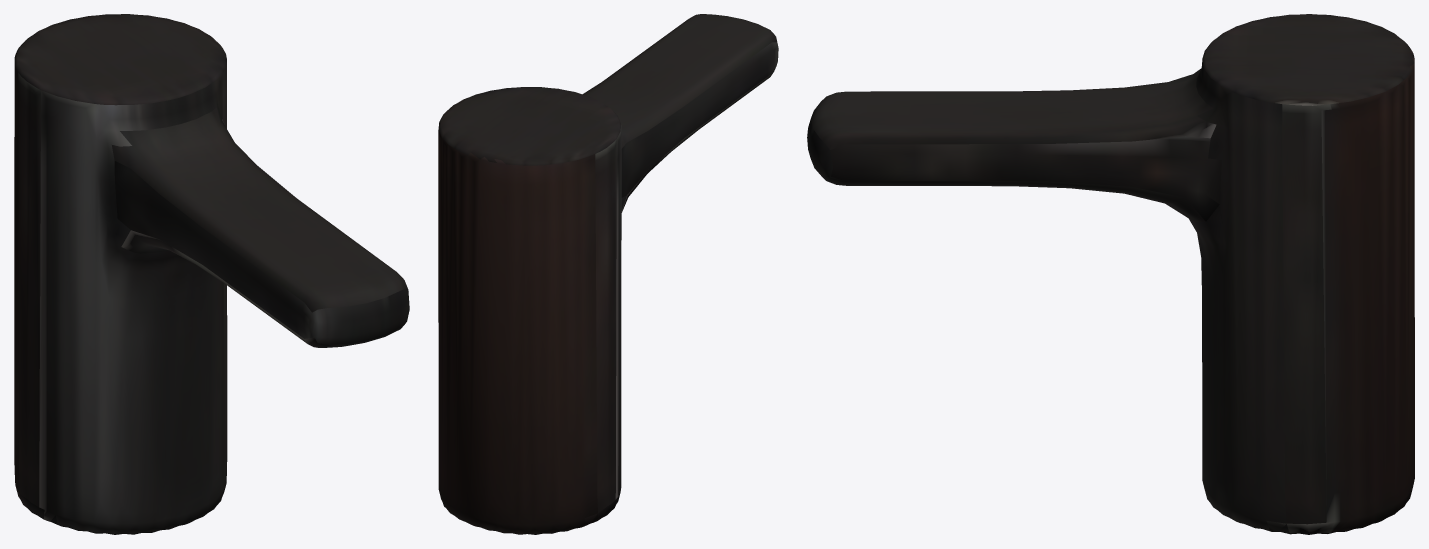
The model's file is BlackTap.glb.
3 views of the same model, side by side, from view 1: azimuth 30°, elevation 25°; view 2: azimuth 150°, elevation 25°; view 3: azimuth 270°, elevation 25° (orthographic). The views are drawn at different scales.
Parts seen in each view (by area): view 1: Bathroom.045; view 2: Bathroom.045; view 3: Bathroom.045.
Part boxes in pixels (bbox=[...]): Bathroom.045: bbox=[14, 14, 409, 534]; Bathroom.045: bbox=[438, 14, 778, 534]; Bathroom.045: bbox=[807, 14, 1414, 534].
Bounding box in the file's own units: 0.159 × 0.3608 × 0.4539.
Materials: 1 (1 with a texture image).
